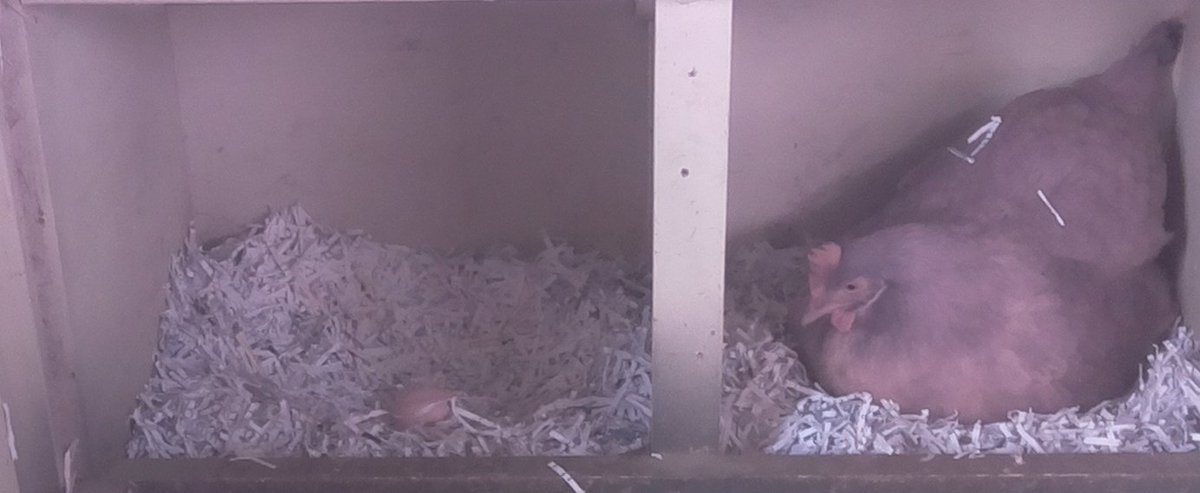egg: (386, 381, 472, 436)
hen: (787, 29, 1176, 434)
